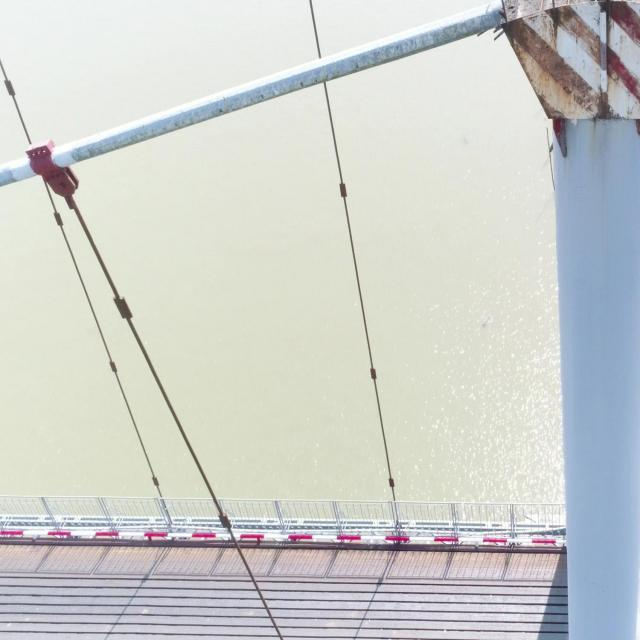crack: (222, 96, 231, 114), (321, 63, 328, 82), (141, 124, 149, 138)
